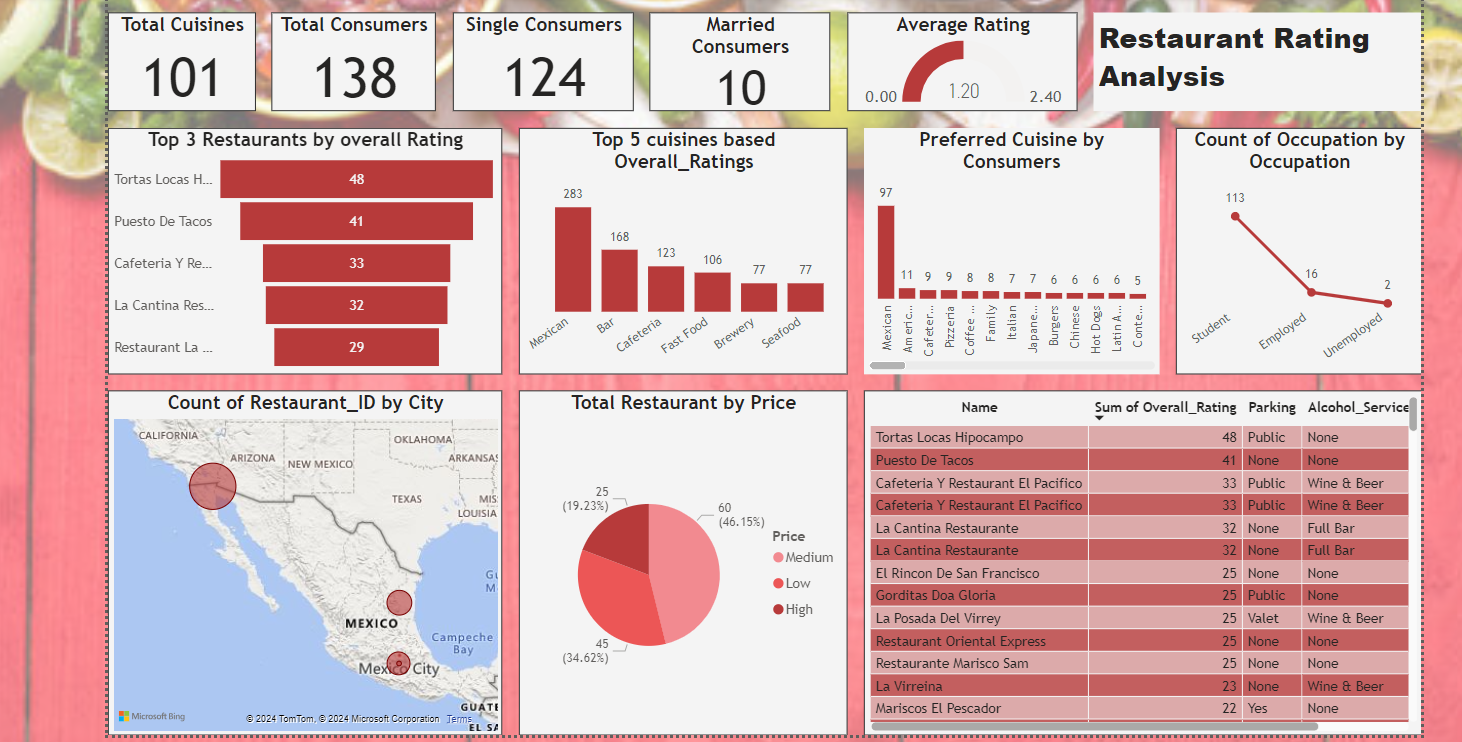

The page's visual inventory and layout, read from the dashboard file:
{"tool":"powerbi","page":{"name":"Page 1","canvas":[1280,720],"ordinal":0},"visuals":[{"type":"clusteredColumnChart","title":"Top 5 cuisines based Overall_Ratings","fields":{"Y":["Sum(Ratings.Overall_Rating)"],"Category":["Resturant_Cuisines.Cuisine"]},"box":[400,128,320,240],"z":0},{"type":"clusteredColumnChart","title":" Preferred Cuisine by Consumers","fields":{"Category":["Consumer_Preferences.Preferred_Cuisine"],"Y":["Sum(CuisineCount.Count)"]},"box":[736,128,288,240],"z":1000},{"type":"card","title":"Married Consumers","fields":{"Values":["DAX.total married consumers"]},"box":[528,16,176,96],"z":2000},{"type":"card","title":"Single Consumers","fields":{"Values":["DAX.Total unmarried consumer"]},"box":[336,16,176,96],"z":3000},{"type":"card","title":"Total Consumers","fields":{"Values":["DAX.Total consumers"]},"box":[160,16,160,96],"z":4000},{"type":"card","title":"Total Cuisines","fields":{"Values":["DAX.Total cuisines"]},"box":[0,16,144,96],"z":5000},{"type":"gauge","fields":{"Y":["DAX.Average Rating"]},"box":[720,16,224,96],"z":6000},{"type":"map","title":"Count of Restaurant by City","fields":{"Category":["Resturants.City"],"Size":["CountNonNull(Resturant_Cuisines.Restaurant_ID)"]},"box":[0,384,384,336],"z":7000},{"type":"funnel","title":"Top 5 Restaurants  by  overall Rating","fields":{"Category":["Resturants.Name"],"Y":["Sum(Ratings.Overall_Rating)"]},"box":[0,128,384,240],"z":8000},{"type":"lineChart","title":"Count of Customers by Occupation","fields":{"Category":["Consumers.Occupation"],"Y":["CountNonNull(Consumers.Occupation)"]},"box":[1040,128,240,240],"z":9000},{"type":"pieChart","title":"Total Restaurant by Price","fields":{"Category":["Resturants.Price"],"Y":["CountNonNull(Resturants.Restaurant_ID)"]},"box":[400,384,320,336],"z":10000},{"type":"textbox","box":[960,16,320,96],"z":11000},{"type":"tableEx","fields":{"Values":["Resturants.Name","Sum(Ratings.Overall_Rating)","Resturants.Parking","Resturants.Alcohol_Service","Resturant_Cuisines.Cuisine"]},"box":[736,384,544,336],"z":12000}]}

Visuals, with their boxes in screenshot pixels (x1, y1, x2, y2):
"Top 5 cuisines based Overall_Ratings" clusteredColumnChart: locate(513, 126, 839, 370)
" Preferred Cuisine by Consumers" clusteredColumnChart: locate(855, 126, 1148, 370)
"Married Consumers" card: locate(644, 12, 822, 110)
"Single Consumers" card: locate(448, 12, 627, 110)
"Total Consumers" card: locate(269, 12, 432, 110)
"Total Cuisines" card: locate(107, 12, 253, 110)
gauge - DAX.Average Rating: locate(839, 12, 1067, 110)
"Count of Restaurant by City" map: locate(107, 387, 497, 728)
"Top 5 Restaurants  by  overall Rating" funnel: locate(107, 126, 497, 370)
"Count of Customers by Occupation" lineChart: locate(1164, 126, 1408, 370)
"Total Restaurant by Price" pieChart: locate(513, 387, 839, 728)
textbox: locate(1083, 12, 1408, 110)
tableEx - Resturants.Name x Sum(Ratings.Overall_Rating): locate(855, 387, 1408, 728)
